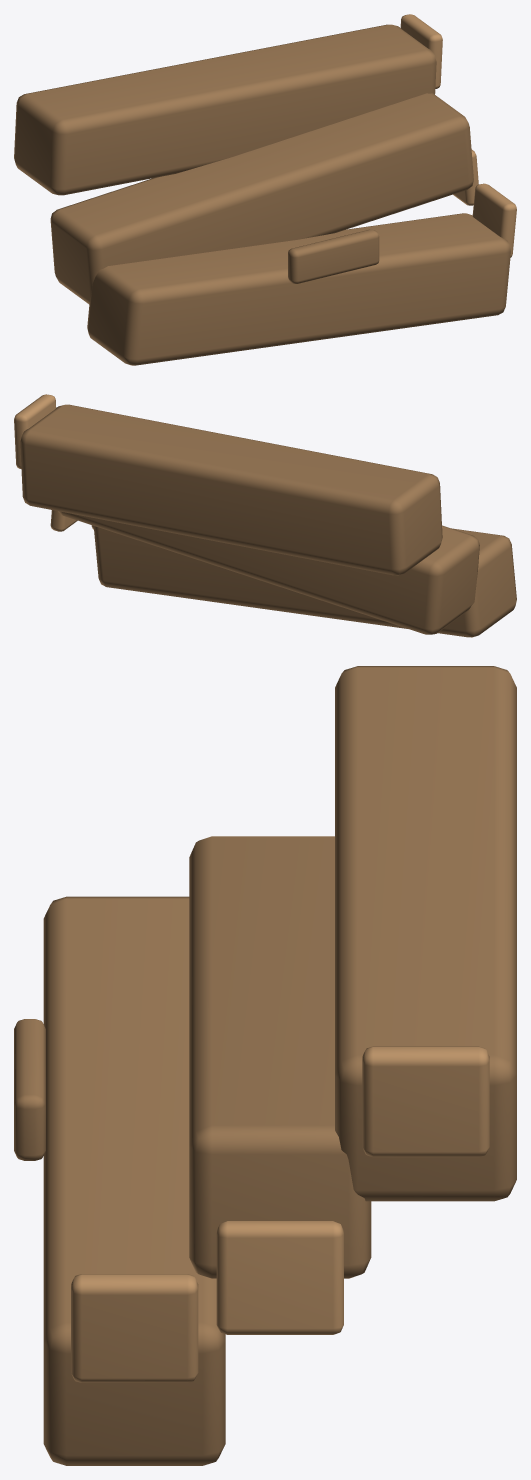
The model's file is resource_wood.glb.
The picture shows the model from 3 angles, top to bottom: view 1: azimuth 30°, elevation 25°; view 2: azimuth 150°, elevation 25°; view 3: azimuth 270°, elevation 25°; orthographic projection. The views are drawn at different scales.
Parts seen in each view (by area): view 1: resource_wood_root; view 2: resource_wood_root; view 3: resource_wood_root.
Part boxes in pixels (x1,y1,x2,y2): resource_wood_root: (14,14,516,365); resource_wood_root: (14,394,516,637); resource_wood_root: (14,666,516,1465).
Size of the model in its own units: 1 by 0.5507 by 0.5556.
